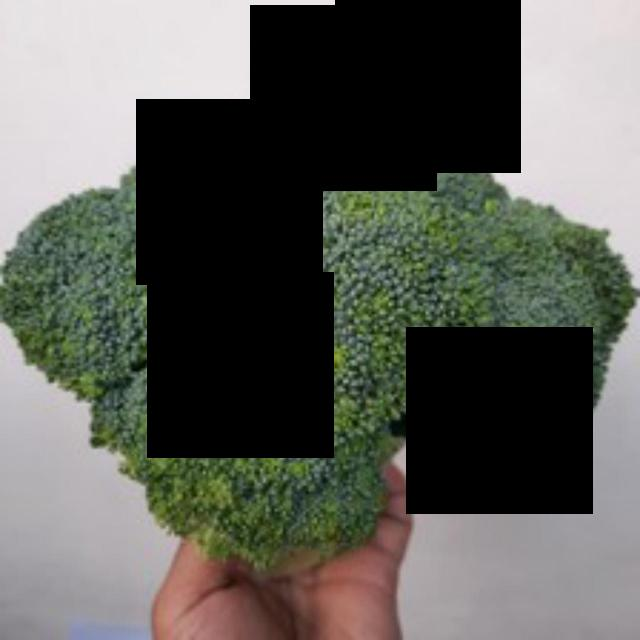broccoli: (0, 97, 637, 563)
